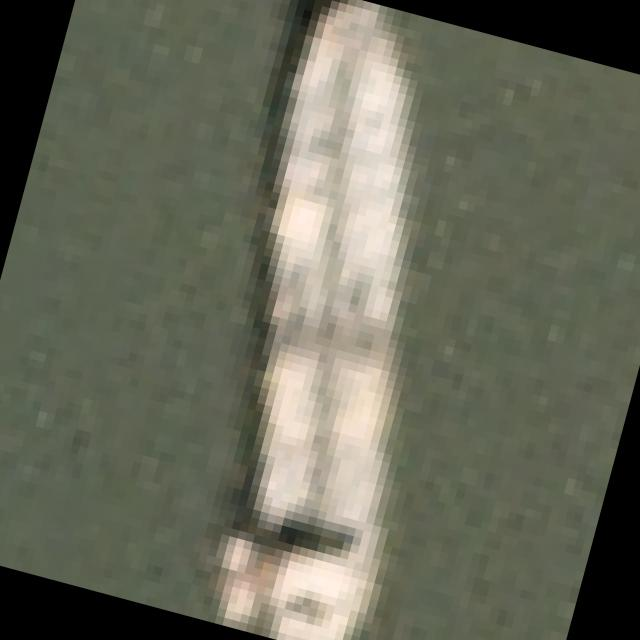ship: (105, 0, 568, 640)
